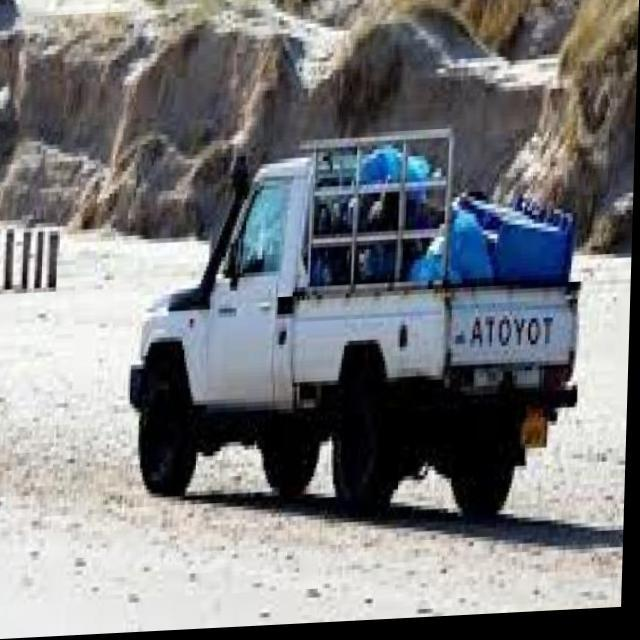uncovered: (118, 134, 591, 512)
